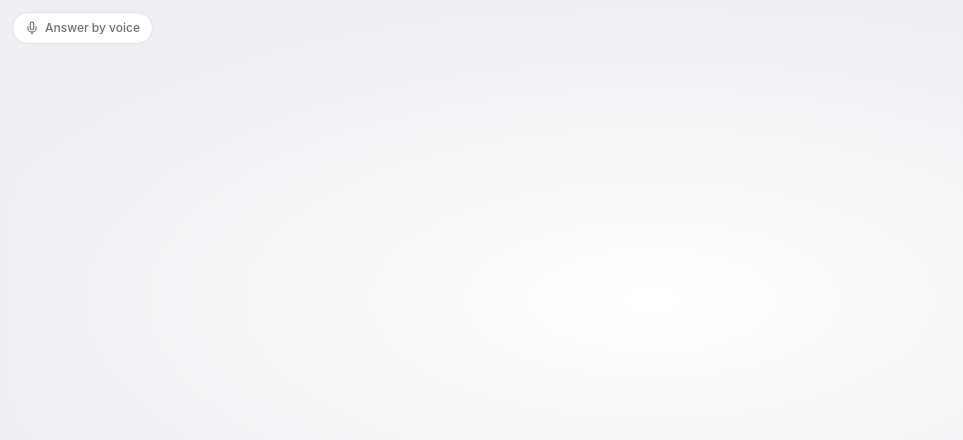
it: SpeakAnswerButton › joins several final results arriving in one event
Click the button "Answer by voice": (82, 28) [12,12,153,44]
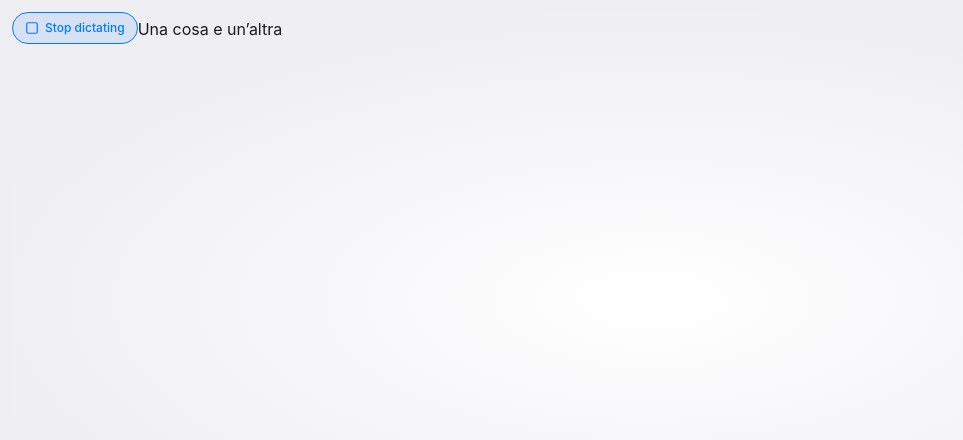
Now the text with test id "answer" reads "Una cosa e un’altra", box [138,19,282,39]
